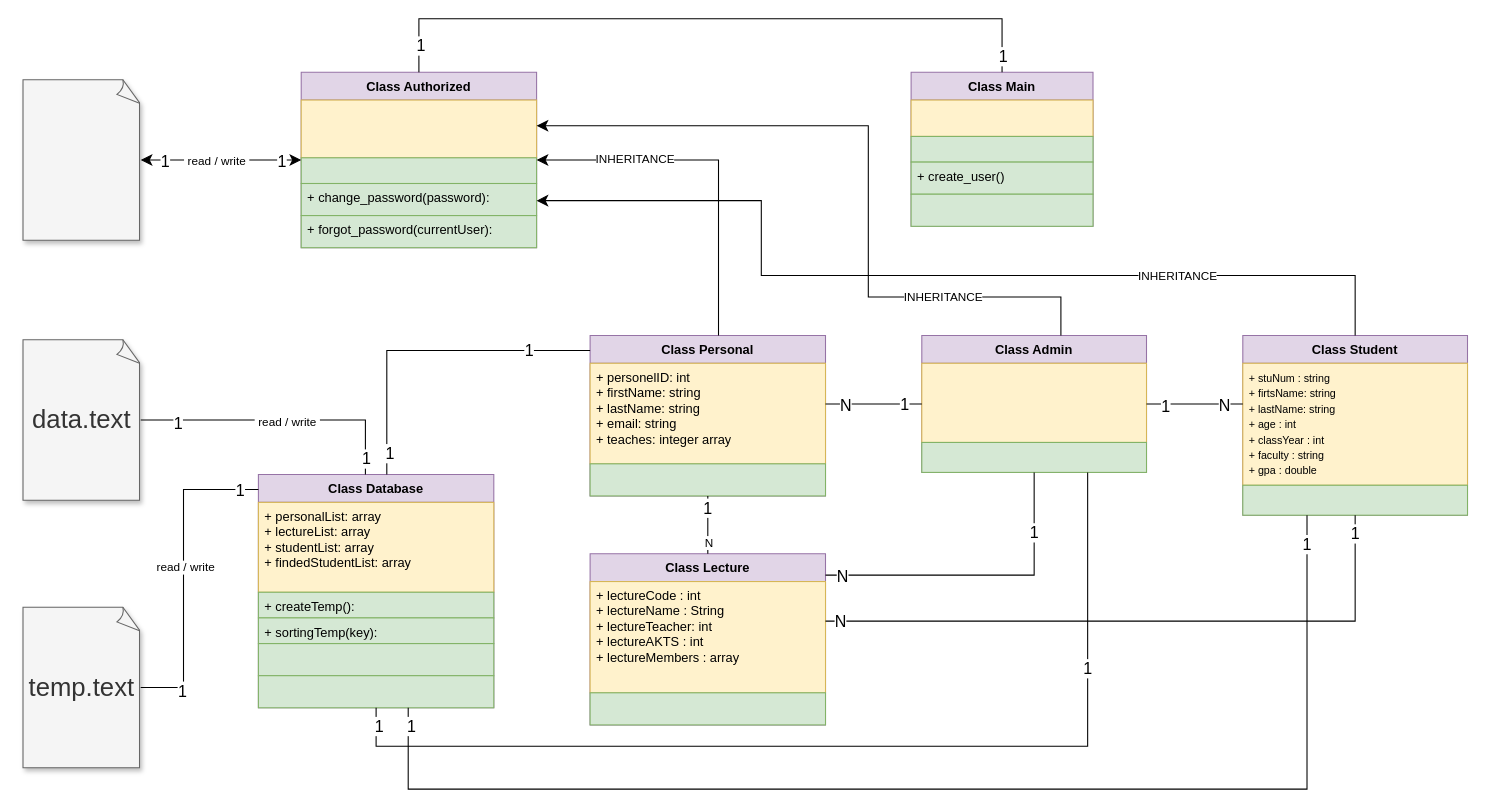
This 1486x809 diagram has some shape labels left out. Here are the shapes that lost their labels. From the top down, the centre of each, then its label:
At pixel 418 128: "+ currentUser : string + authenticated : boolean".
At pixel 1001 148: "+ main()".
At pixel 82 161: "auth.bin".
At pixel 418 170: "+ check_auth(password):".
At pixel 375 659: "+ searchingInTemp(json):".
At pixel 375 691: "+ applyChanges(object):".
